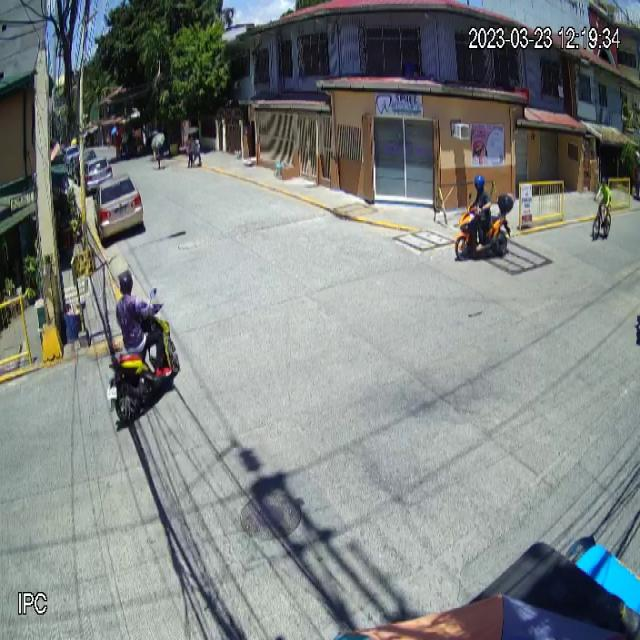Motorcycle: (106, 288, 180, 424), (454, 193, 514, 261)
